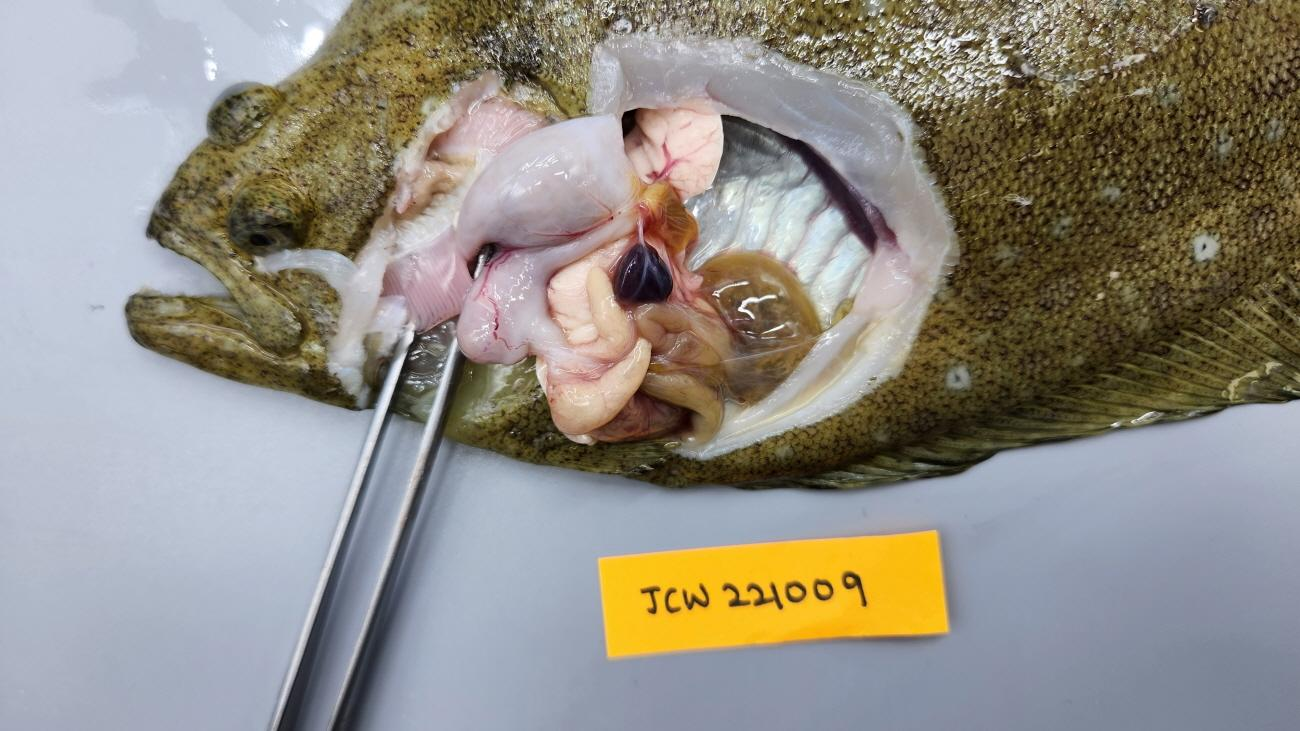POINN: (634, 301, 729, 448)
POSPN: (613, 239, 676, 303)
